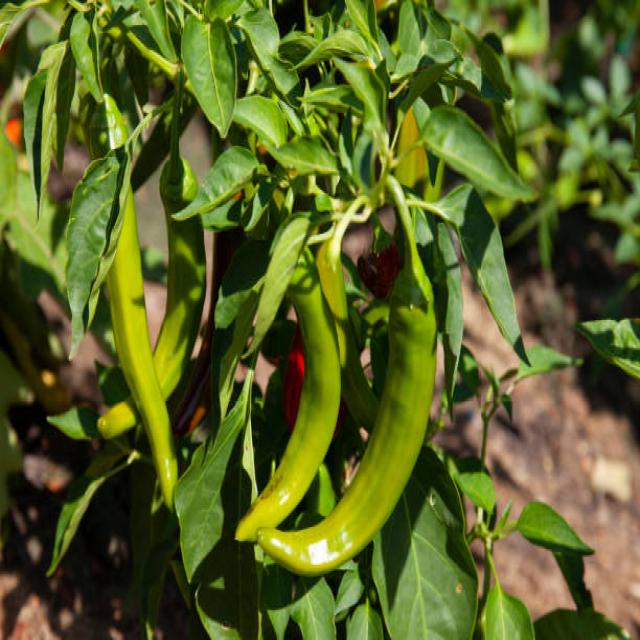Unripe: (255, 292, 436, 576), (237, 254, 340, 538), (107, 191, 177, 507), (154, 201, 205, 395)
